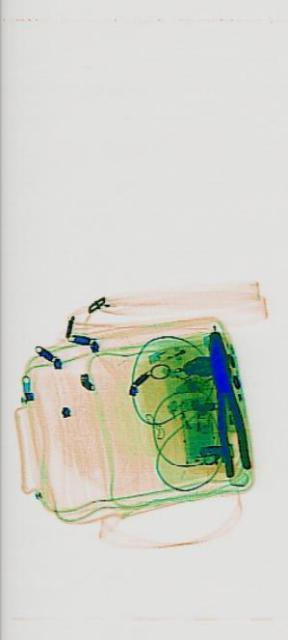Pliers: (200, 320, 249, 482)
